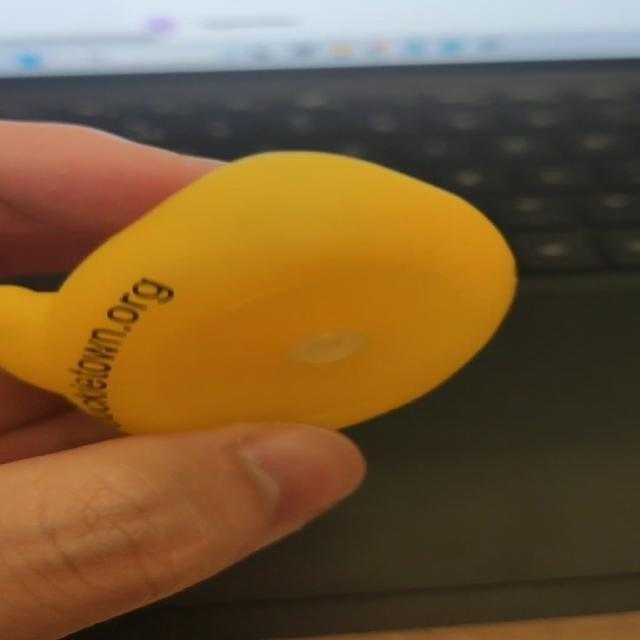rubber-duck: (0, 151, 514, 431)
